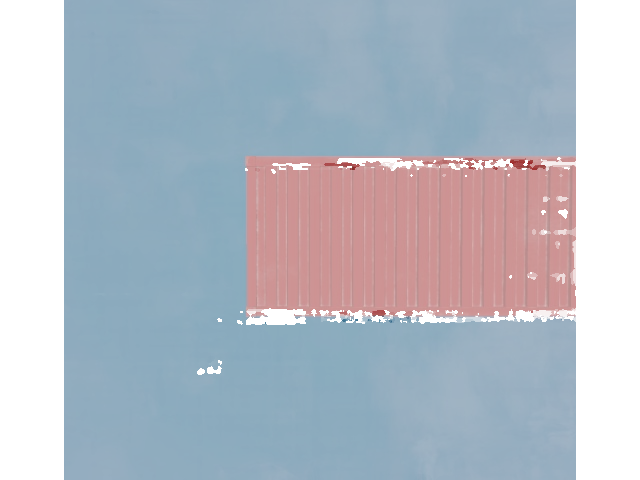container5: (243, 153, 640, 318)
